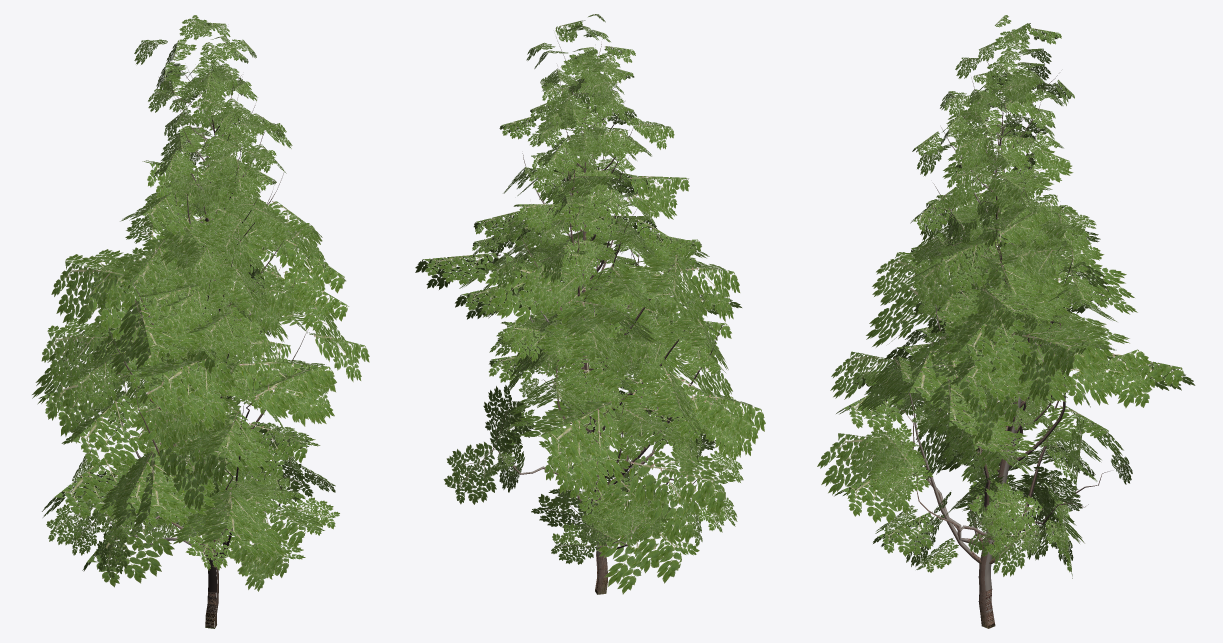
File: highDraco.glb
3 views of the same model, side by side, from view 1: azimuth 30°, elevation 25°; view 2: azimuth 150°, elevation 25°; view 3: azimuth 270°, elevation 25° (orthographic). The views are drawn at different scales.
Size of the model in its own units: 8.54 by 14.95 by 9.19.
Materials: 2 (2 with a texture image).
